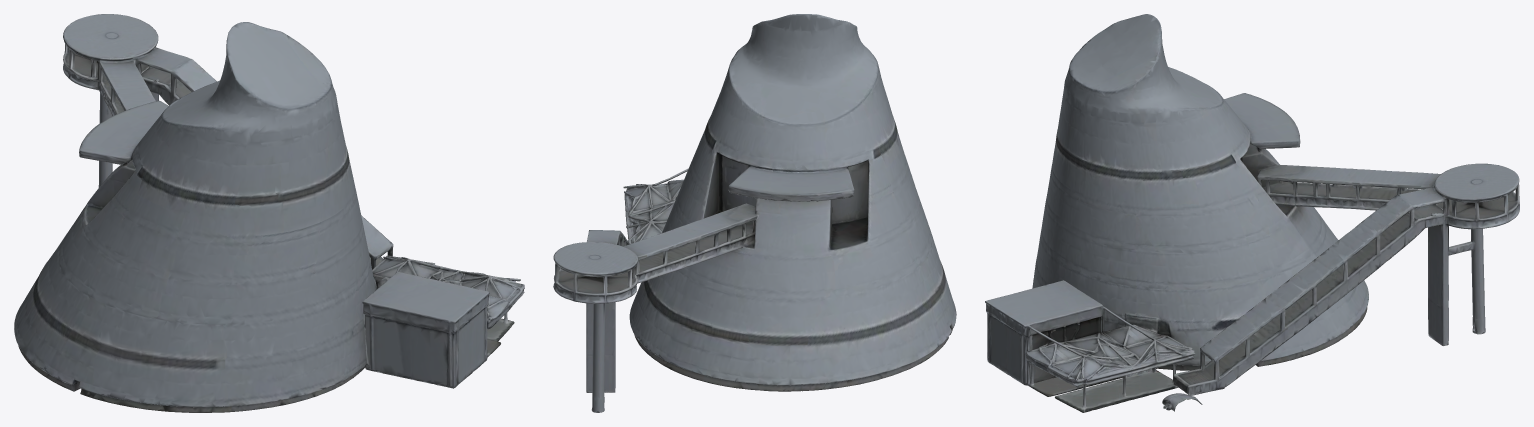
Rendered from macau-science-center.lod.glb.
3 renders of one model, left to right at view 1: azimuth 30°, elevation 25°; view 2: azimuth 150°, elevation 25°; view 3: azimuth 270°, elevation 25°, orthographic. The views are drawn at different scales.
Parts seen in each view (by area): view 1: tripo_node_5b61c99e-2bd0-4fde-99be-3c67919665cb; view 2: tripo_node_5b61c99e-2bd0-4fde-99be-3c67919665cb; view 3: tripo_node_5b61c99e-2bd0-4fde-99be-3c67919665cb.
Part boxes in pixels (box(x1,y1,x2,y2)): tripo_node_5b61c99e-2bd0-4fde-99be-3c67919665cb: box(14, 14, 524, 412); tripo_node_5b61c99e-2bd0-4fde-99be-3c67919665cb: box(553, 14, 956, 412); tripo_node_5b61c99e-2bd0-4fde-99be-3c67919665cb: box(985, 14, 1519, 412).
Bounding box in the file's own units: 0.784 × 0.5898 × 0.9774.
1 material, 1 textured.
